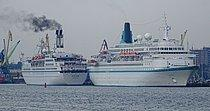Ship: (89, 20, 205, 90), (18, 50, 94, 90)
